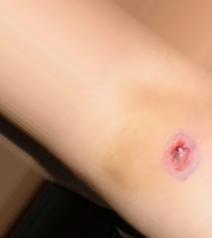Spider: (135, 119, 211, 187)
